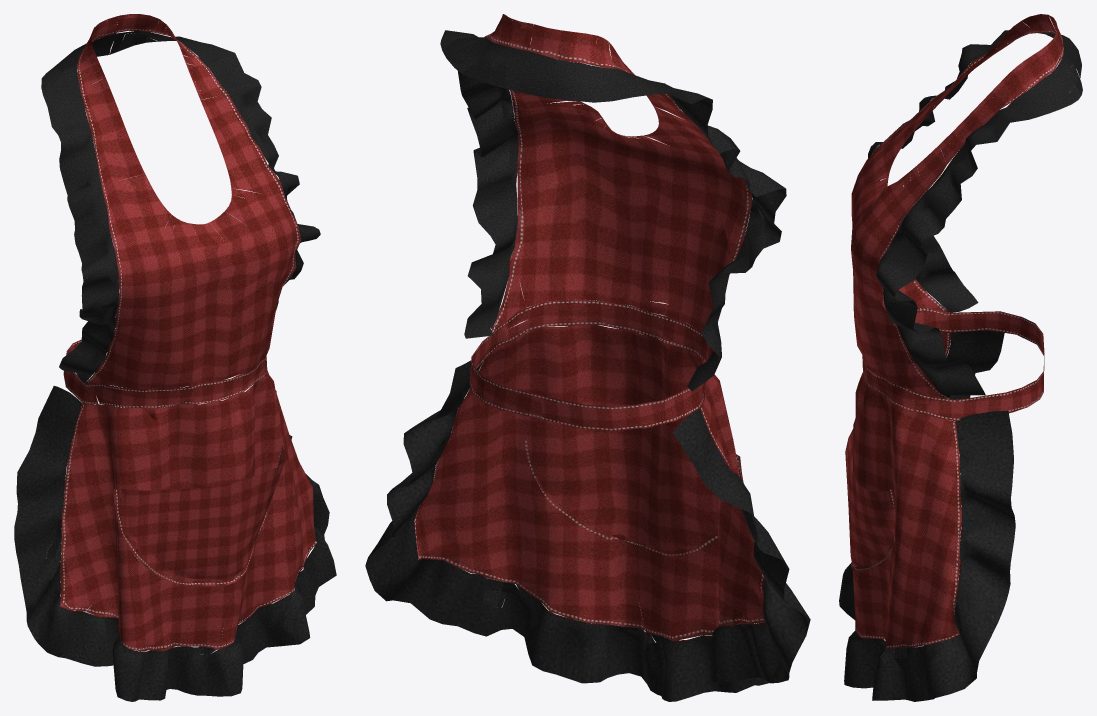
File: apron.glb
3 views of the same model, side by side, from view 1: azimuth 30°, elevation 25°; view 2: azimuth 150°, elevation 25°; view 3: azimuth 270°, elevation 25° (orthographic). The views are drawn at different scales.
Parts seen in each view (by area): view 1: Object_2; view 2: Object_2; view 3: Object_2.
Boxes of the visible parts, <box> form: Object_2: <box>14,14,336,701</box>; Object_2: <box>365,14,810,701</box>; Object_2: <box>839,14,1082,701</box>.
Bounding box in the file's own units: 44.17 × 77.14 × 26.28.
1 material, 1 textured.
